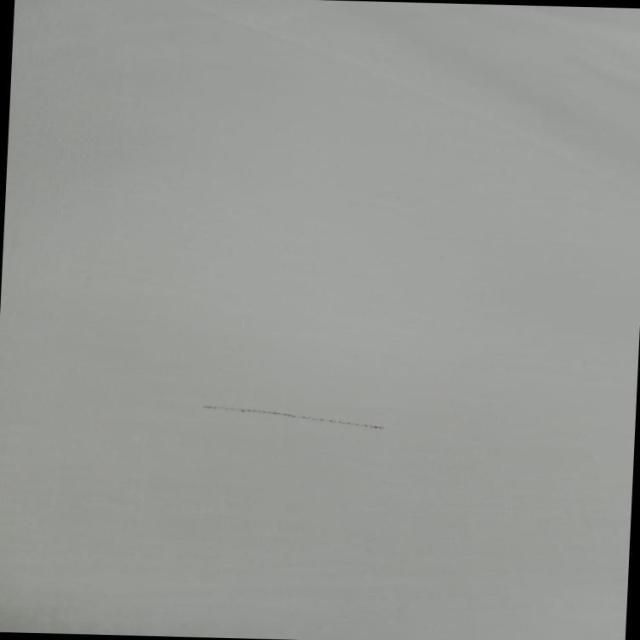contamination: (190, 394, 398, 440)
